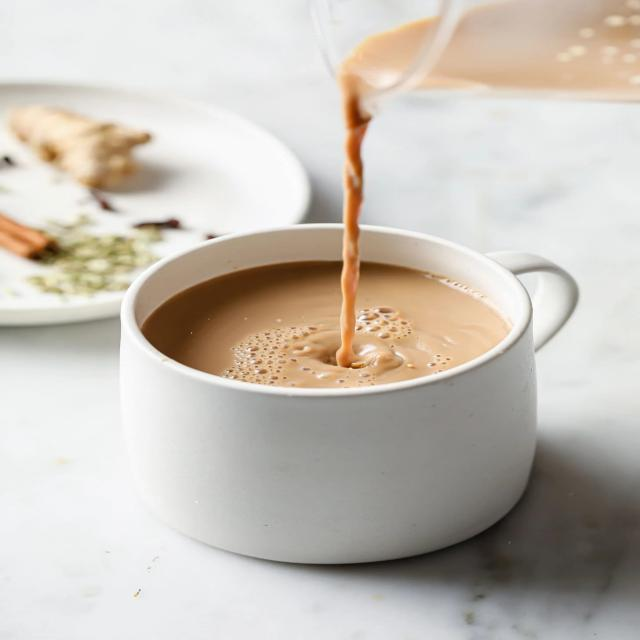Chai: (148, 263, 520, 386), (326, 6, 640, 94), (324, 54, 396, 372)
